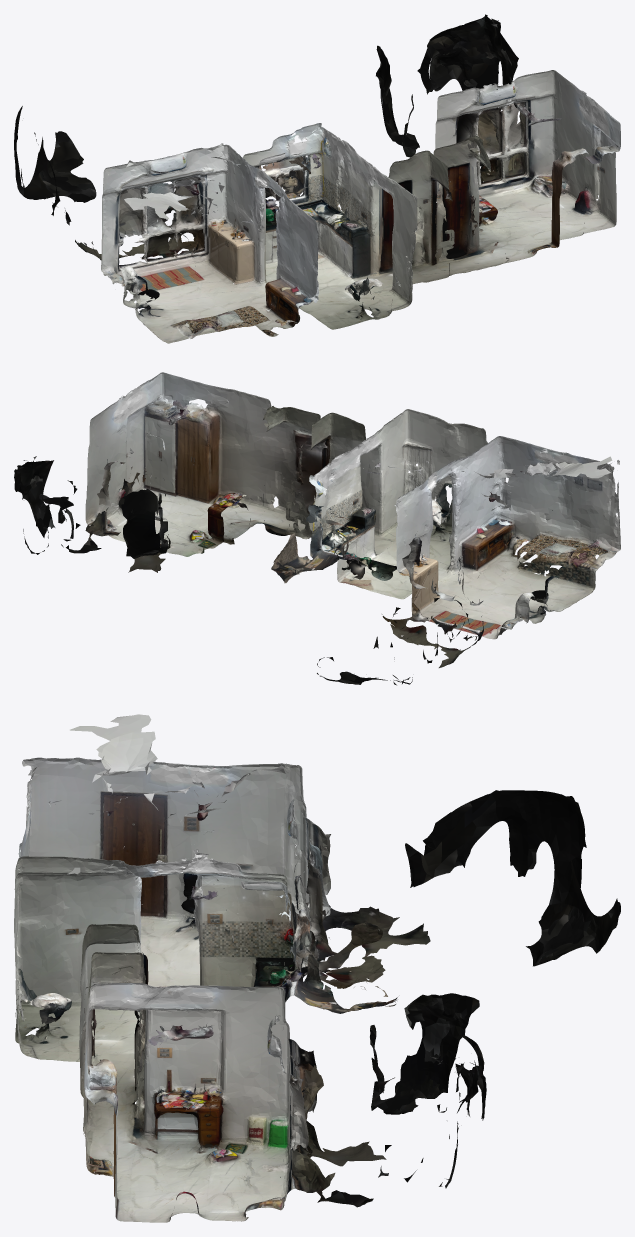
The picture shows the model from 3 angles, top to bottom: view 1: azimuth 30°, elevation 25°; view 2: azimuth 150°, elevation 25°; view 3: azimuth 270°, elevation 25°; orthographic projection. The views are drawn at different scales.
Size of the model in its own units: 11.83 by 3.22 by 9.29.
Materials: 4 (4 with a texture image).
